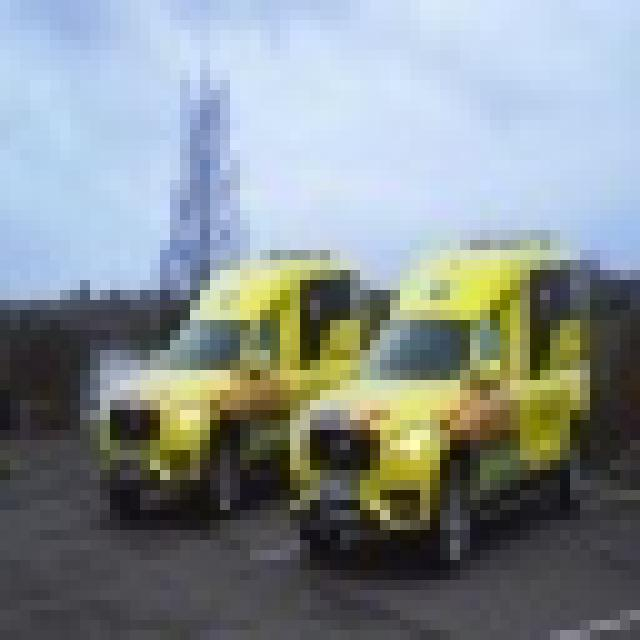Ambulance: (280, 230, 590, 560), (90, 240, 390, 510)
